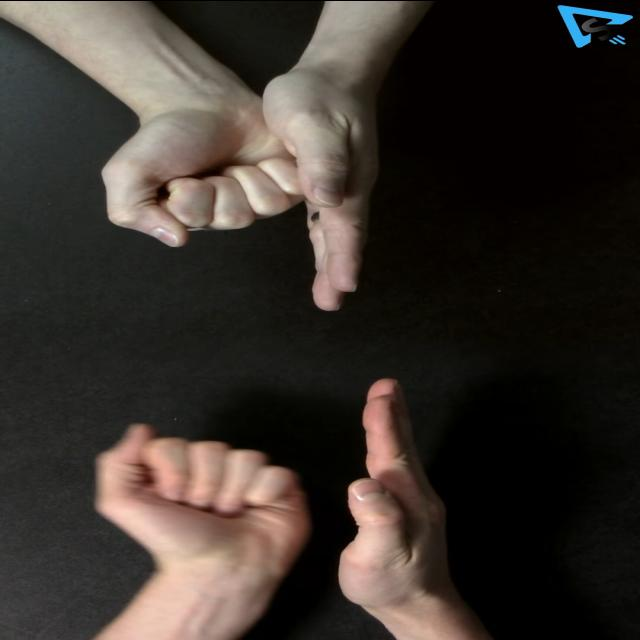Rock: (86, 420, 306, 573), (98, 88, 306, 246)
